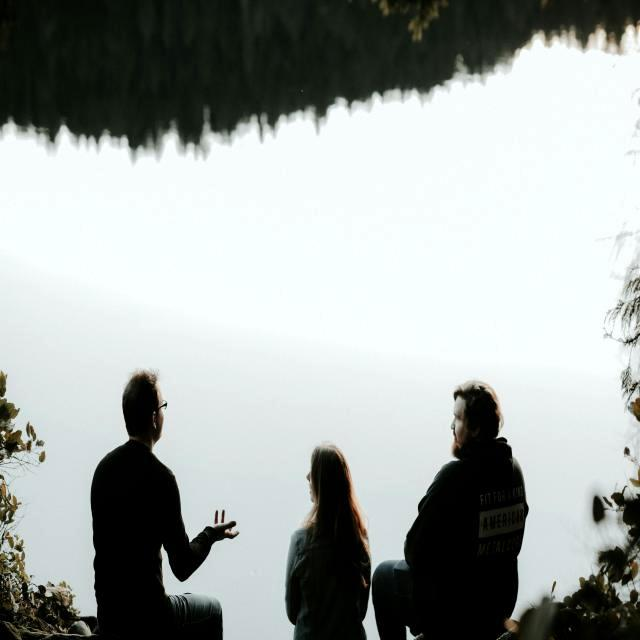no_head_wear: (122, 370, 167, 452), (453, 380, 504, 441), (452, 439, 463, 459)
person: (373, 379, 528, 640), (91, 370, 239, 640), (285, 444, 371, 640)
